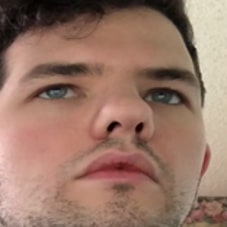awake: (14, 53, 202, 227)
